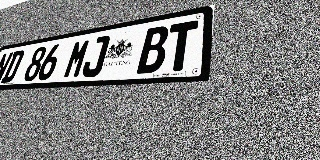6: (36, 43, 64, 81)
8: (22, 46, 49, 82)
B: (136, 25, 170, 74)
D: (0, 50, 26, 83)
J: (80, 35, 111, 78)
M: (62, 38, 92, 79)
N: (0, 52, 14, 84)
T: (163, 20, 198, 72)
